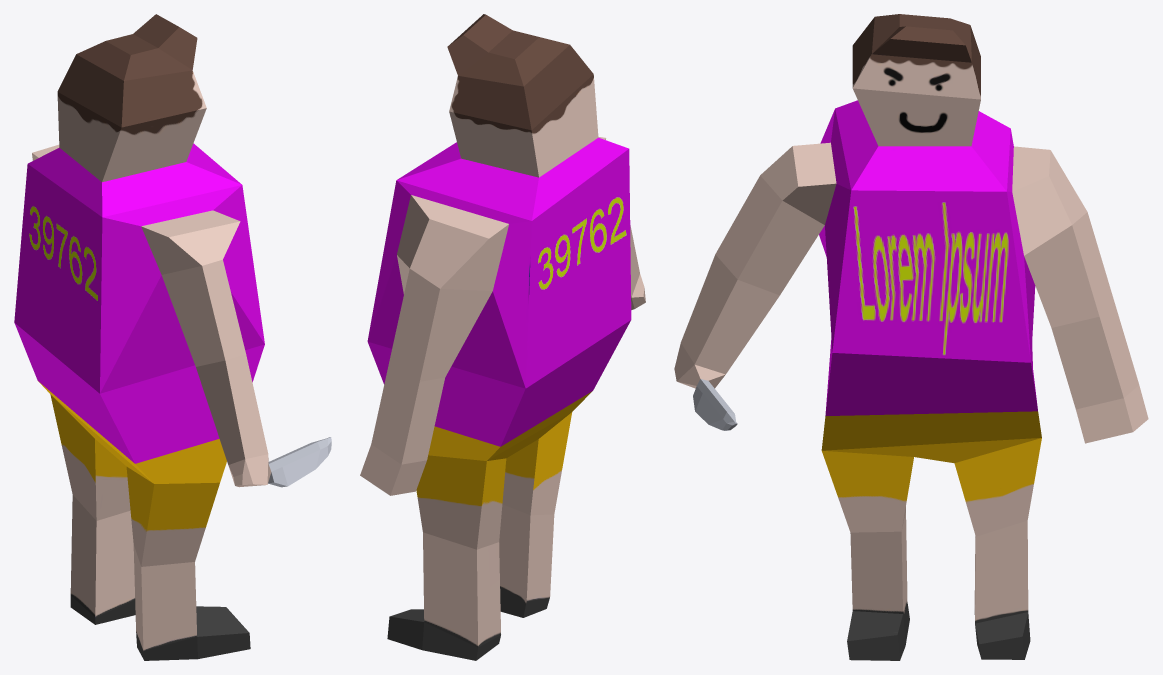
File: player.glb
The picture shows the model from 3 angles, left to right: view 1: azimuth 30°, elevation 25°; view 2: azimuth 150°, elevation 25°; view 3: azimuth 270°, elevation 25°; orthographic projection. The views are drawn at different scales.
Parts seen in each view (by area): view 1: Cube; view 2: Cube; view 3: Cube.
Boxes of the visible parts, left/top/right/bottom form: Cube: left=14, top=14, right=331, bottom=660; Cube: left=360, top=14, right=645, bottom=660; Cube: left=674, top=14, right=1148, bottom=660.
Size of the model in its own units: 0.6025 by 1.94 by 1.36.
Materials: 1 (1 with a texture image).
